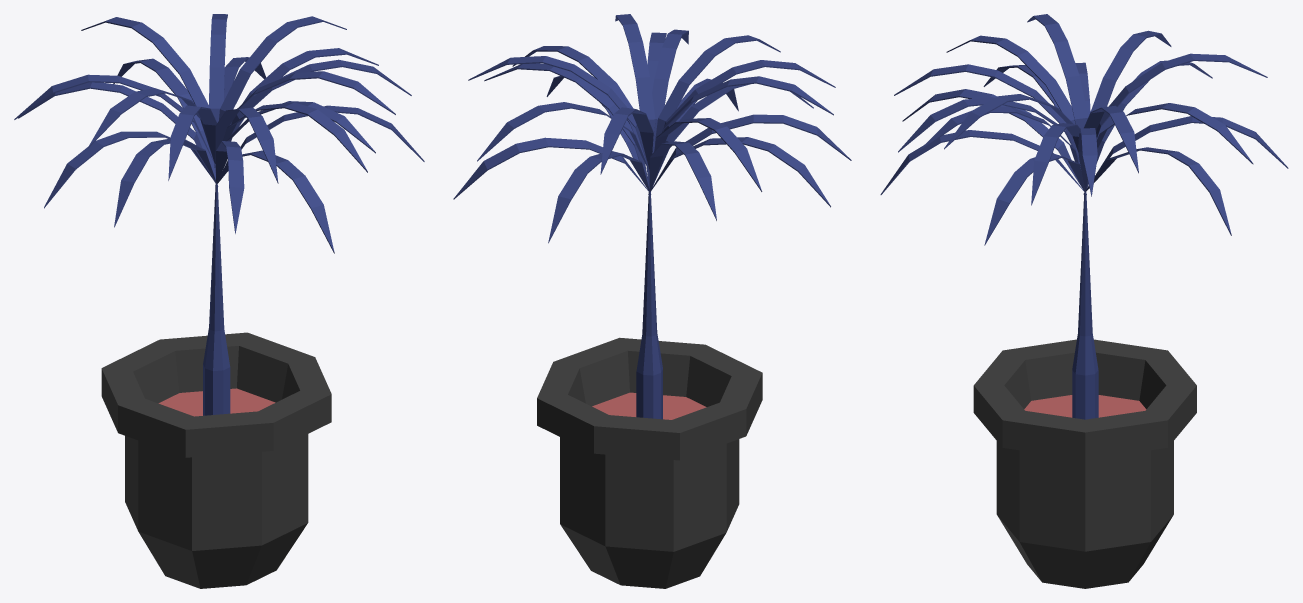
The model's file is Kitchen_Plant.fbx.
3 views of the same model, side by side, from view 1: azimuth 30°, elevation 25°; view 2: azimuth 150°, elevation 25°; view 3: azimuth 270°, elevation 25° (orthographic). The views are drawn at different scales.
Visible parts, largest first — view 1: Kitchen_Plant; view 2: Kitchen_Plant; view 3: Kitchen_Plant.
Part boxes in pixels (left/top/right/bottom): Kitchen_Plant: left=14, top=14, right=424, bottom=588; Kitchen_Plant: left=453, top=14, right=851, bottom=588; Kitchen_Plant: left=880, top=14, right=1288, bottom=588.
Bounding box in the file's own units: 65.53 × 91.23 × 68.08.
